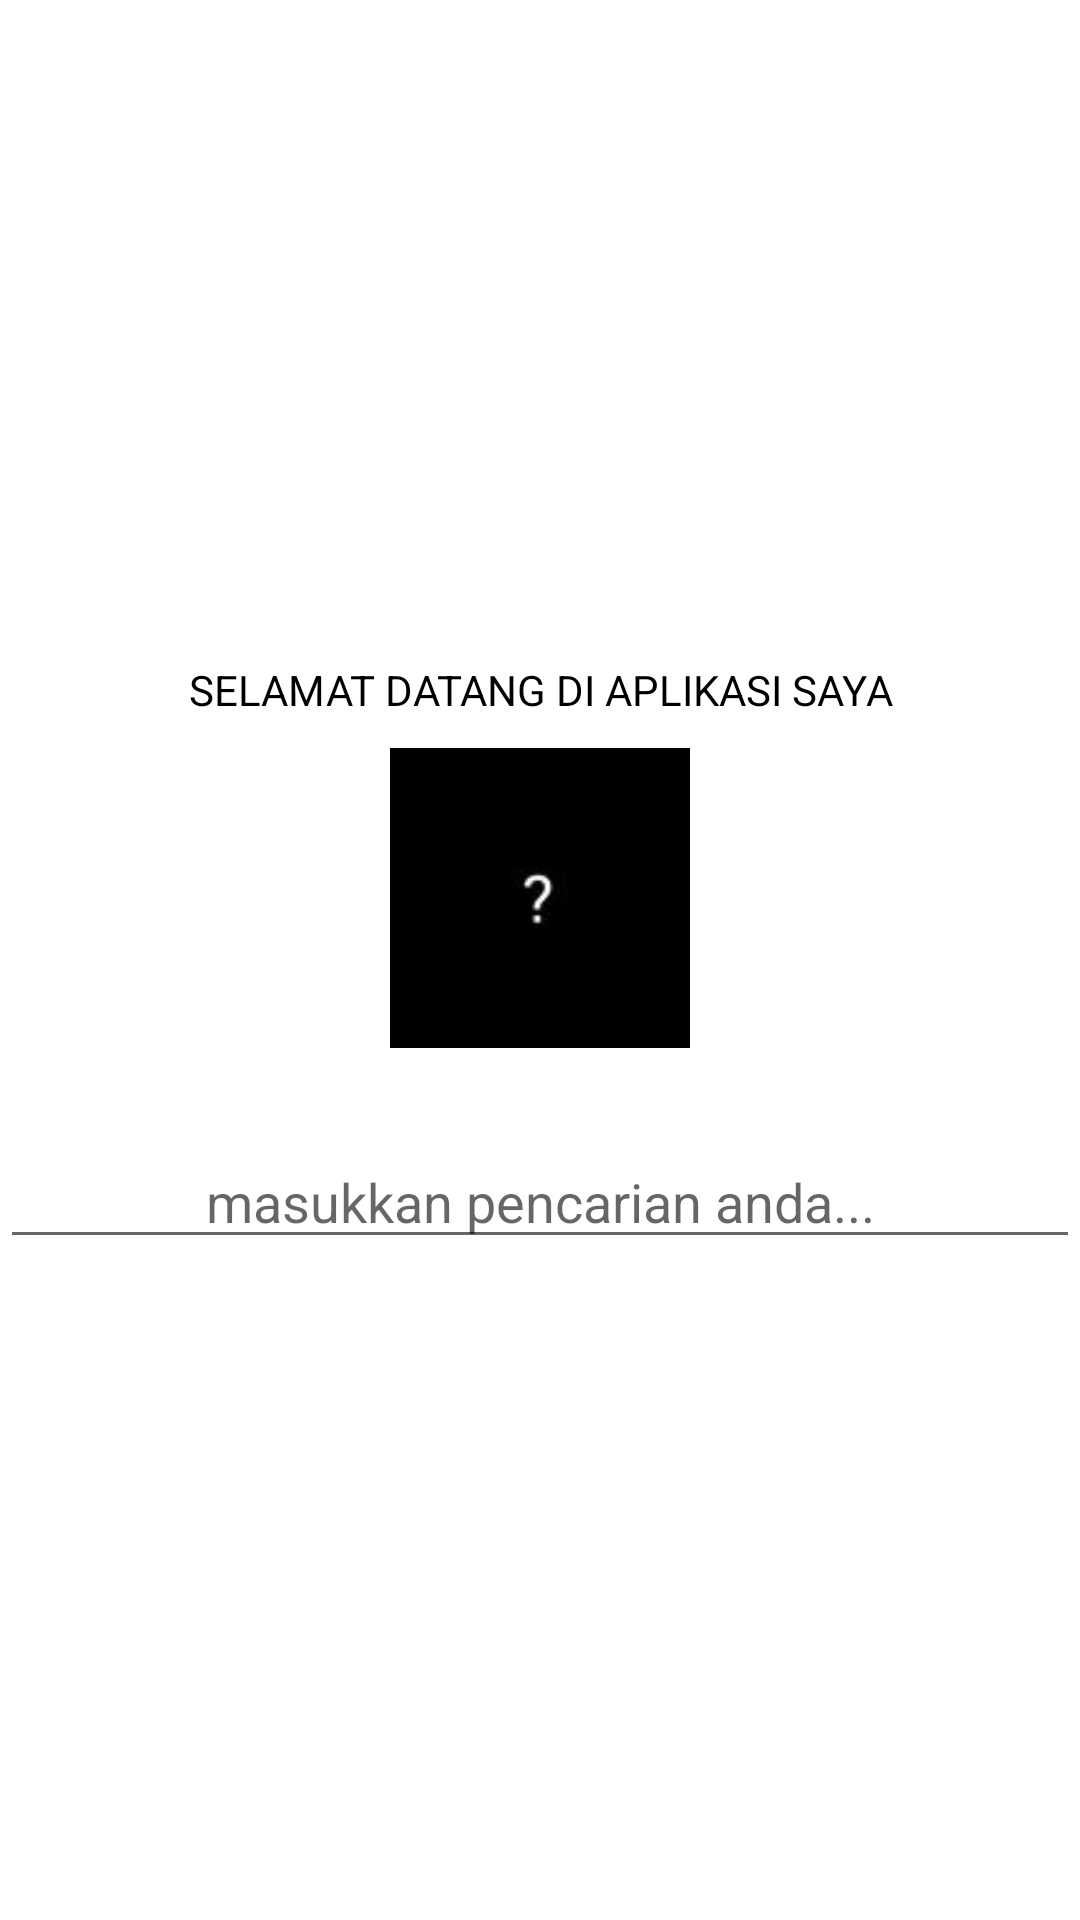

Point at icon controls on the screen. Image size 1080w x 1920h, points as (x,y).
tanda tanya: (540,898)
